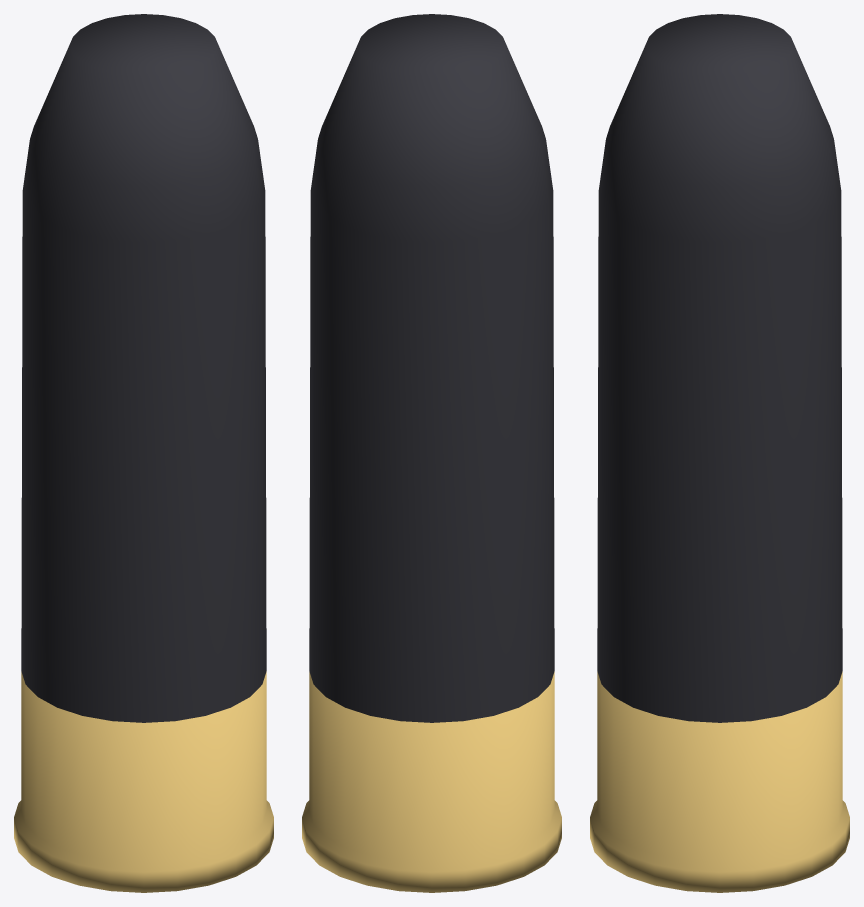
3 renders of one model, left to right at view 1: azimuth 30°, elevation 25°; view 2: azimuth 150°, elevation 25°; view 3: azimuth 270°, elevation 25°, orthographic.
Visible parts, largest first — view 1: cuerpo, culote; view 2: cuerpo, culote; view 3: cuerpo, culote.
Boxes of the visible parts, <box> form: cuerpo: <box>21,14,266,722</box>; culote: <box>14,671,273,892</box>; cuerpo: <box>309,14,554,722</box>; culote: <box>302,671,561,892</box>; cuerpo: <box>597,14,842,722</box>; culote: <box>590,671,849,892</box>.
Size of the model in its own units: 0.0226 by 0.076 by 0.0226.
